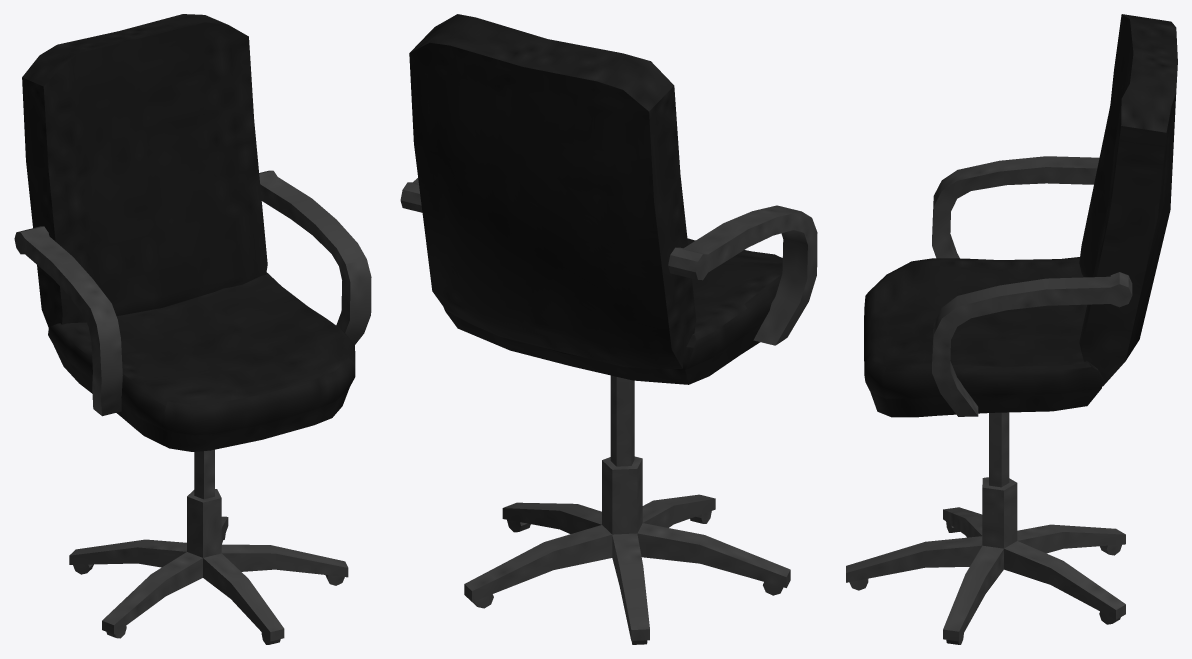
File: Chair.fbx
The picture shows the model from 3 angles, left to right: view 1: azimuth 30°, elevation 25°; view 2: azimuth 150°, elevation 25°; view 3: azimuth 270°, elevation 25°; orthographic projection. The views are drawn at different scales.
Parts seen in each view (by area): view 1: Basic Office Chair; view 2: Basic Office Chair; view 3: Basic Office Chair.
Boxes of the visible parts, left/top/right/bottom form: Basic Office Chair: left=14, top=14, right=371, bottom=644; Basic Office Chair: left=400, top=14, right=817, bottom=644; Basic Office Chair: left=846, top=14, right=1177, bottom=644.
Bounding box in the file's own units: 75.5 × 136 × 76.11.
